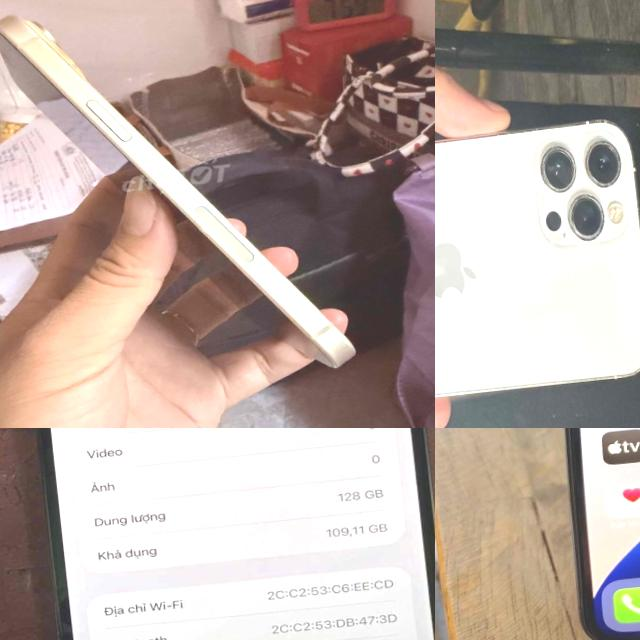gen_12_13: (435, 109, 640, 426)
gen_14: (0, 428, 435, 640)
gen_15: (0, 0, 367, 421)
gen_x_xs: (537, 428, 640, 640)
physical_damage: (196, 218, 211, 236)
